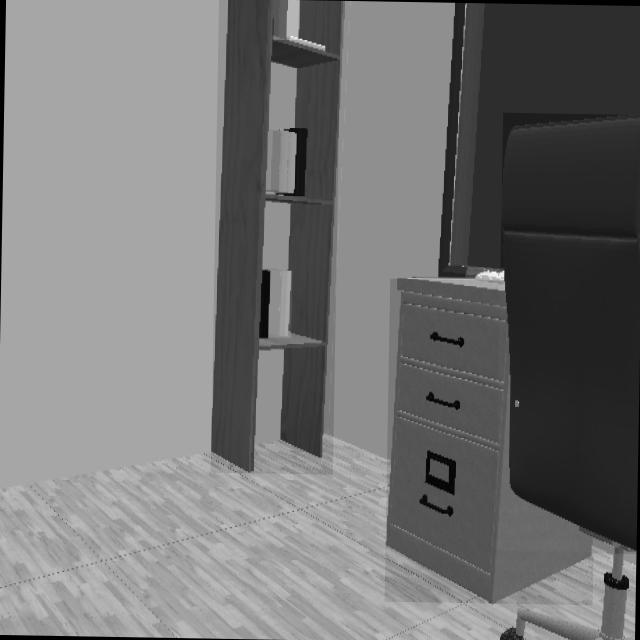book: (265, 127, 307, 199), (268, 270, 292, 337), (273, 0, 299, 39)
cabinet: (385, 279, 593, 602)
chair: (500, 115, 640, 553)
shelf: (211, 0, 340, 473)
